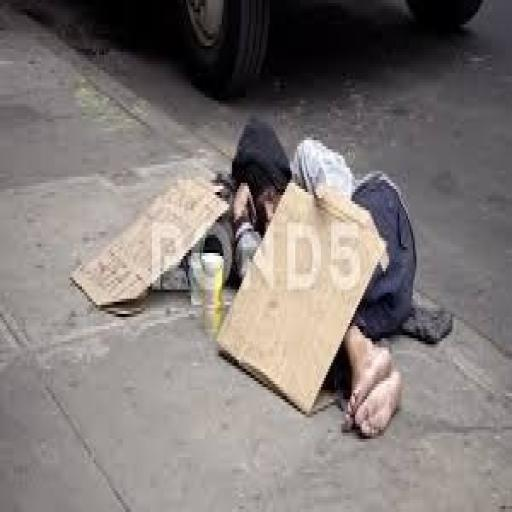sleeping: (217, 113, 420, 439)
